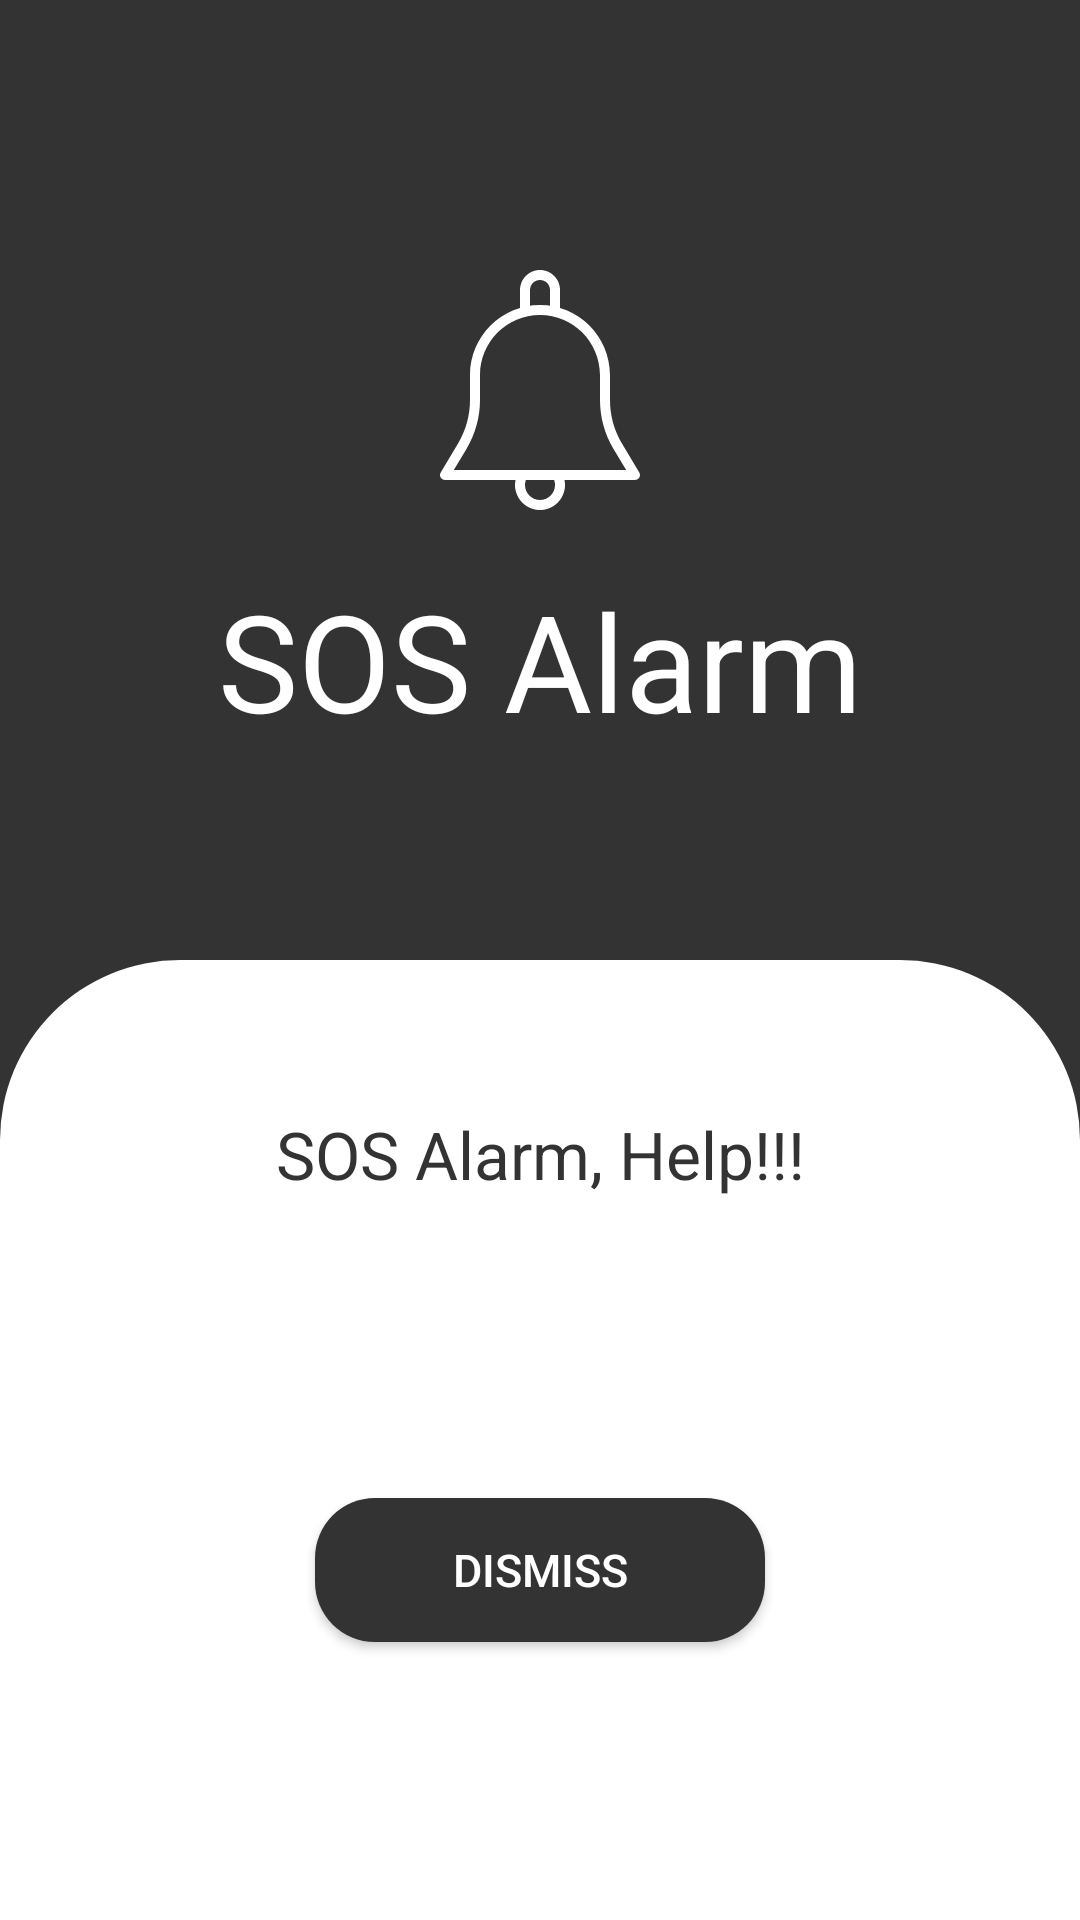

Named icons in this screenshot (1080x1920) and their bounding boxes, Rect(x1, y1, x2, y2):
notification: Rect(440, 270, 640, 510)
